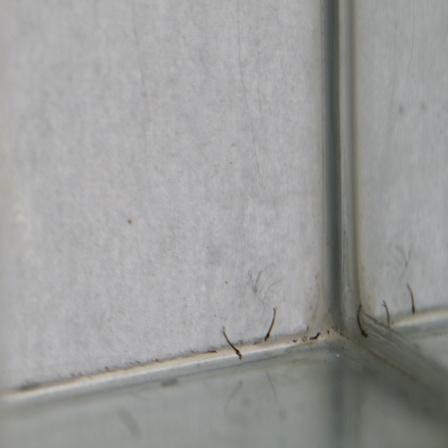Jentik-Nyamuk: (219, 326, 245, 363), (260, 306, 280, 342), (354, 304, 371, 340)
